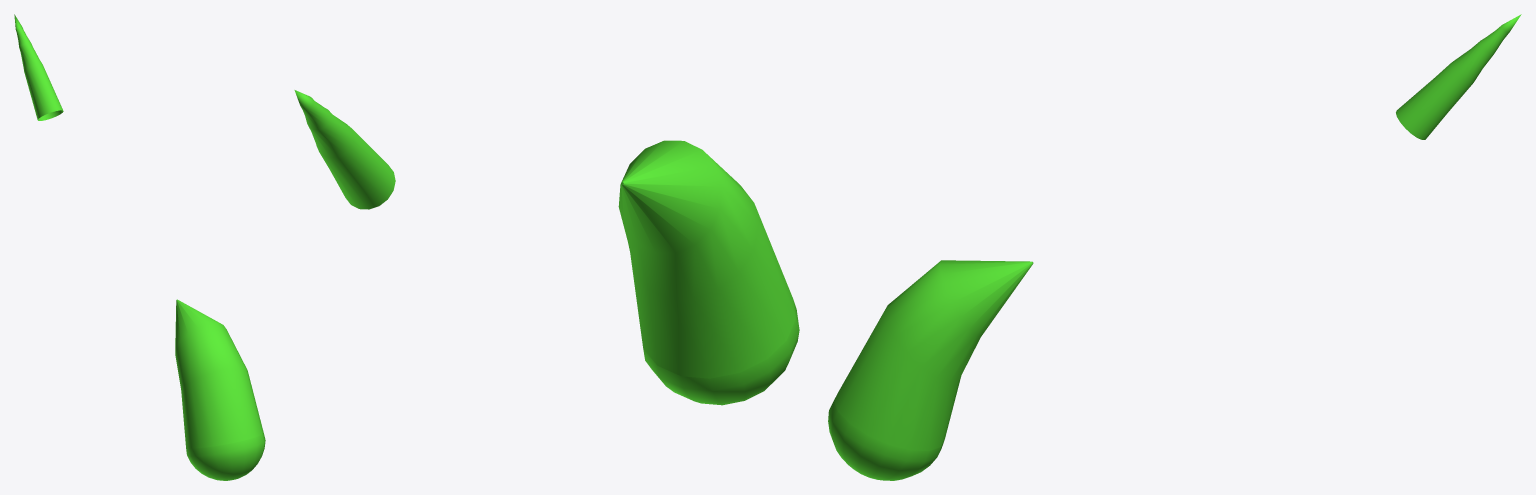
File: Ducky_Deco4.fbx
The picture shows the model from 3 angles, left to right: view 1: azimuth 30°, elevation 25°; view 2: azimuth 150°, elevation 25°; view 3: azimuth 270°, elevation 25°; orthographic projection. The views are drawn at different scales.
Parts seen in each view (by area): view 1: Cylinder.005, Cylinder.004; view 2: Cylinder.005, Cylinder.004; view 3: Cylinder.005, Cylinder.004.
Boxes of the visible parts, box(x1,y1,x2,y2) form: Cylinder.005: box(175, 299, 265, 480); Cylinder.004: box(14, 14, 63, 120); Cylinder.005: box(618, 140, 799, 405); Cylinder.004: box(294, 90, 395, 209); Cylinder.005: box(828, 260, 1033, 480); Cylinder.004: box(1396, 14, 1521, 139).
Size of the model in its own units: 33.49 by 142 by 193.
